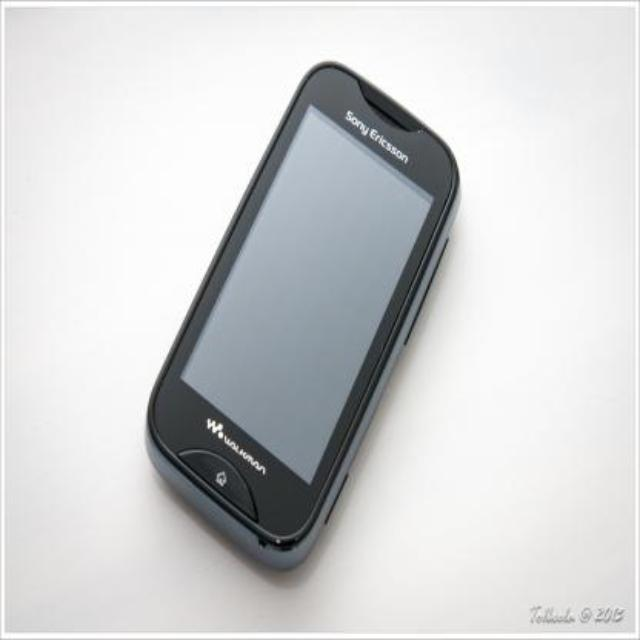Smartphone: (129, 53, 493, 612)
